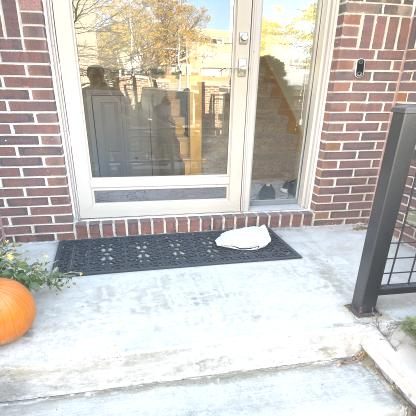plastic_bag: (214, 224, 271, 251)
